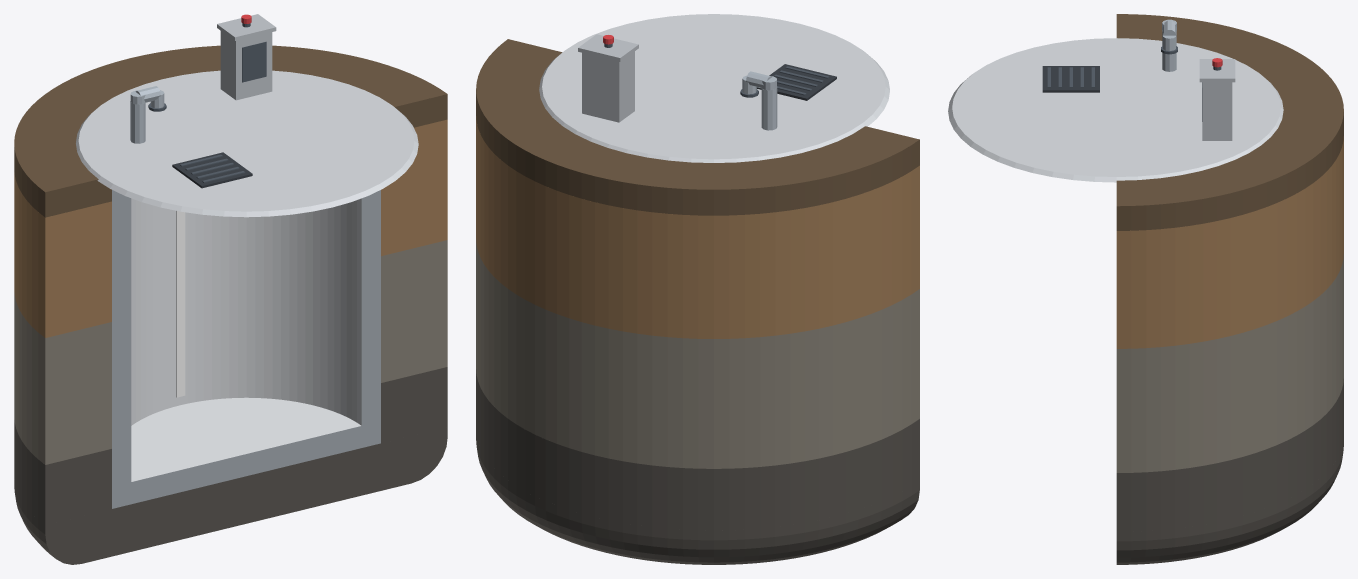
The model's file is tank.glb.
The picture shows the model from 3 angles, left to right: view 1: azimuth 30°, elevation 25°; view 2: azimuth 150°, elevation 25°; view 3: azimuth 270°, elevation 25°; orthographic projection. The views are drawn at different scales.
Visible parts, largest first — view 1: TankStructure, TankLid, SoilGravel, SoilUnderBedrock, SoilClay, TankGroundLine, SoilBedrock, TankKiosk.001, SoilTopsoil, TankStaff, TankHatch, TankVent; view 2: SoilGravel, SoilClay, TankLid, SoilBedrock, TankGroundLine, SoilUnderBedrock, SoilTopsoil, TankKiosk.001, TankHatch, TankVent; view 3: TankLid, SoilGravel, SoilClay, TankGroundLine, SoilBedrock, SoilUnderBedrock, SoilTopsoil, TankKiosk.001, TankHatch, TankVent.
Boxes of the visible parts, left/top/right/bottom form: TankStructure: left=112, top=190, right=380, bottom=508; TankLid: left=76, top=70, right=418, bottom=217; SoilGravel: left=14, top=240, right=447, bottom=464; SoilUnderBedrock: left=14, top=427, right=447, bottom=564; SoilClay: left=14, top=119, right=447, bottom=337; TankGroundLine: left=14, top=45, right=447, bottom=192; SoilBedrock: left=14, top=367, right=447, bottom=525; TankKiosk.001: left=217, top=14, right=276, bottom=100; SoilTopsoil: left=14, top=94, right=447, bottom=217; TankStaff: left=176, top=211, right=185, bottom=397; TankHatch: left=172, top=152, right=252, bottom=188; TankVent: left=130, top=86, right=166, bottom=143; SoilGravel: left=476, top=239, right=919, bottom=468; SoilClay: left=476, top=116, right=919, bottom=338; TankLid: left=539, top=14, right=889, bottom=162; SoilBedrock: left=476, top=369, right=919, bottom=530; TankGroundLine: left=476, top=39, right=919, bottom=189; SoilUnderBedrock: left=476, top=431, right=919, bottom=564; SoilTopsoil: left=476, top=90, right=919, bottom=215; TankKiosk.001: left=578, top=34, right=638, bottom=122; TankHatch: left=756, top=64, right=836, bottom=100; TankVent: left=740, top=71, right=777, bottom=130; TankLid: left=948, top=38, right=1283, bottom=182; SoilGravel: left=1116, top=254, right=1343, bottom=472; SoilClay: left=1116, top=136, right=1343, bottom=348; TankGroundLine: left=1116, top=14, right=1343, bottom=206; SoilBedrock: left=1116, top=379, right=1343, bottom=531; SoilUnderBedrock: left=1116, top=438, right=1343, bottom=564; SoilTopsoil: left=1116, top=112, right=1343, bottom=230; TankKiosk.001: left=1199, top=59, right=1235, bottom=140; TankHatch: left=1042, top=66, right=1099, bottom=92; TankVent: left=1161, top=19, right=1177, bottom=71.
Size of the model in its own units: 6.64 by 7.2 by 5.78.
Materials: 2 (2 with a texture image).
